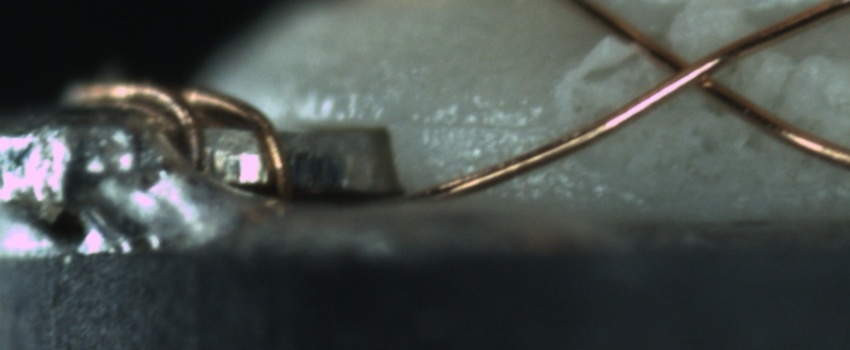CL: (644, 36, 736, 104)
DL: (398, 95, 539, 156)
TE: (54, 71, 298, 211)
